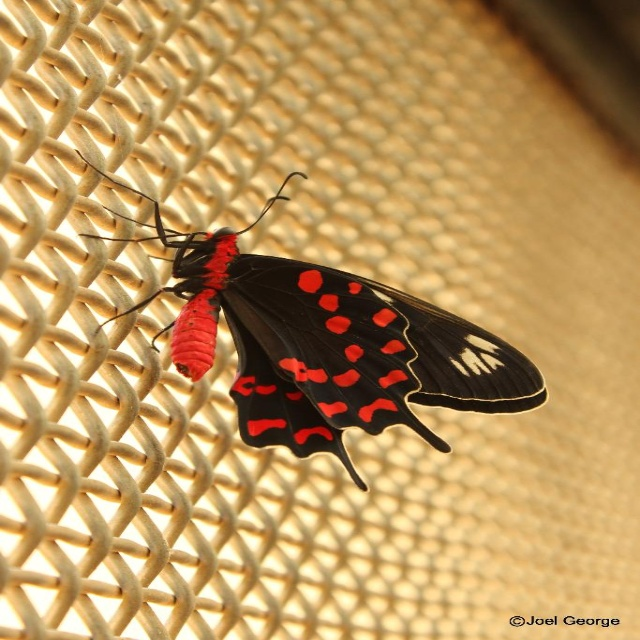Butterfly: (149, 154, 510, 491)
